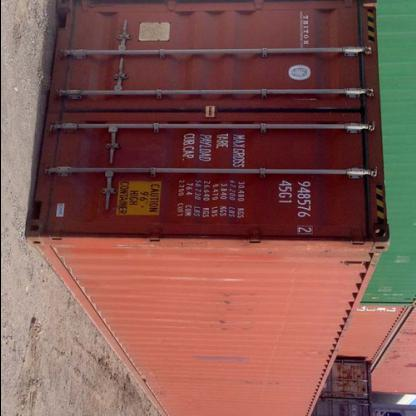Damage: (140, 266, 254, 284), (192, 348, 272, 371), (214, 316, 282, 332), (214, 288, 245, 319), (238, 374, 284, 394)
